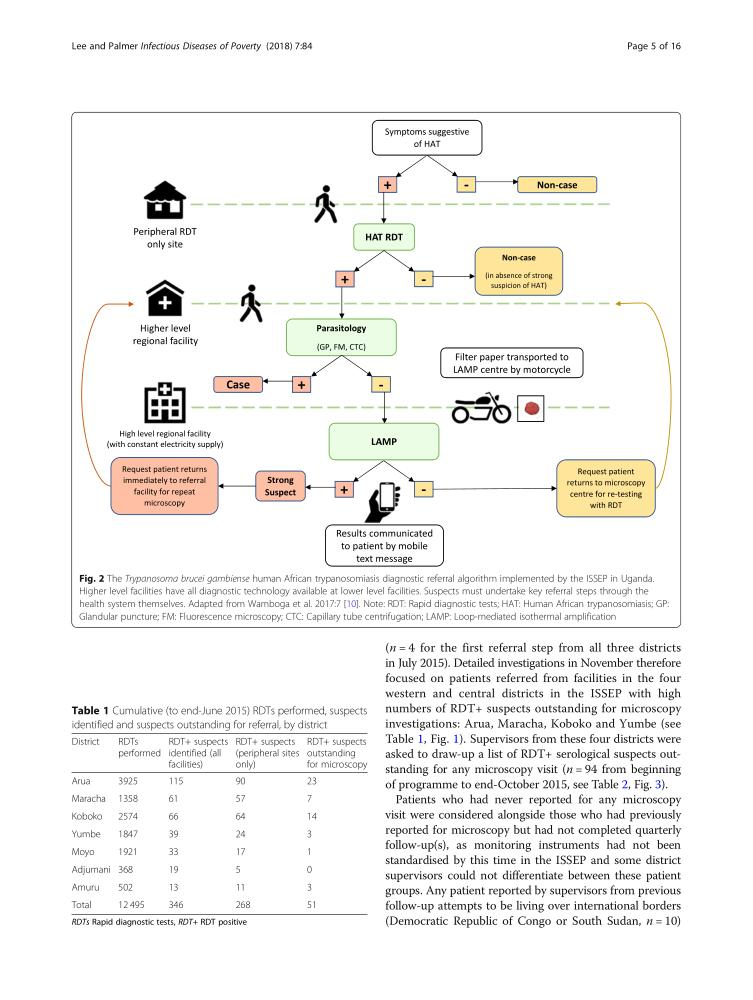table: (71, 736, 367, 910)
